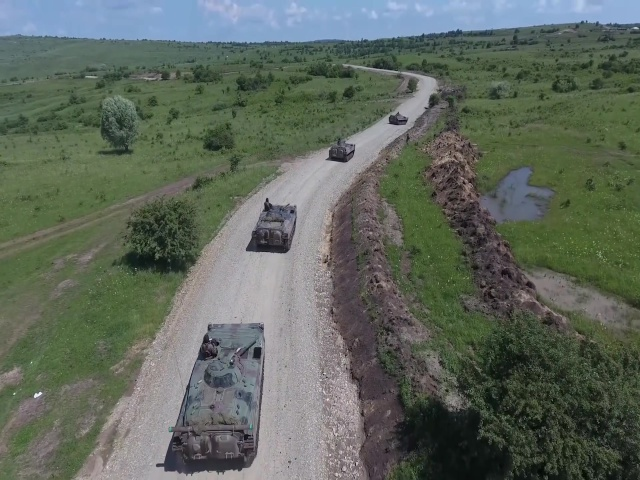vehicle: (167, 321, 268, 475), (252, 203, 299, 251), (327, 141, 356, 162), (388, 112, 408, 127)
